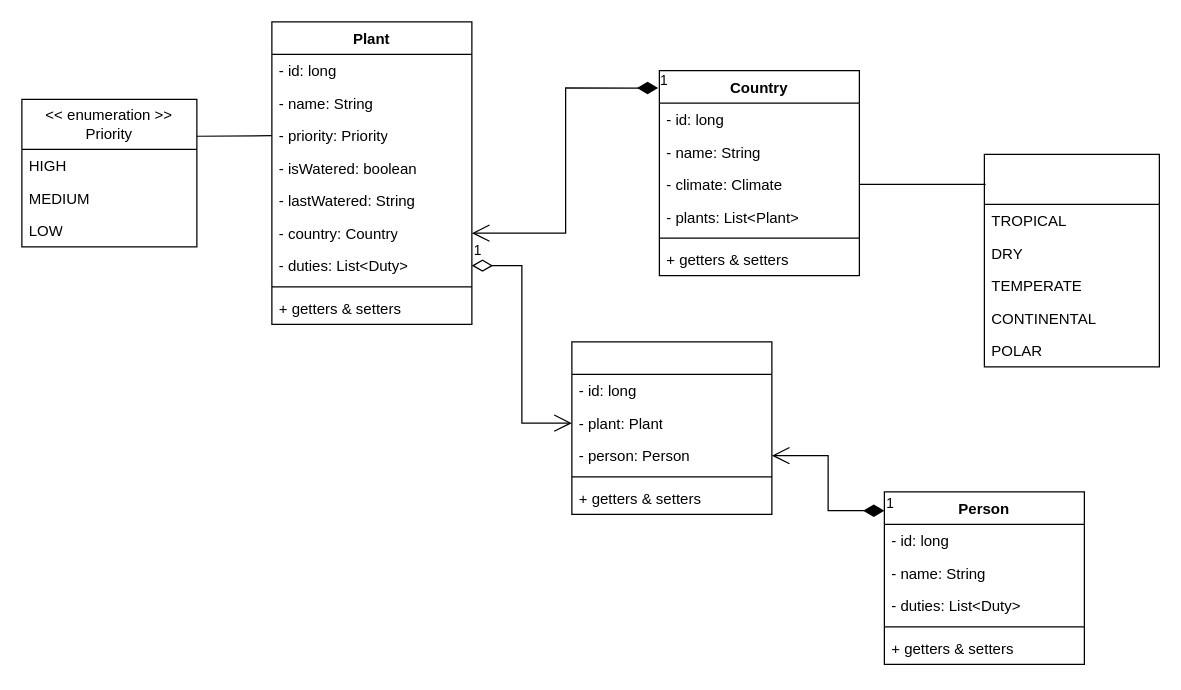
The diagram is 1181 pixels wide and 690 high, and some of its shapes have lost their labels. Each missing label, with the box of its shape:
<< enumeration >> Climate: (983, 153, 1159, 367)
Duty: (571, 341, 772, 514)
